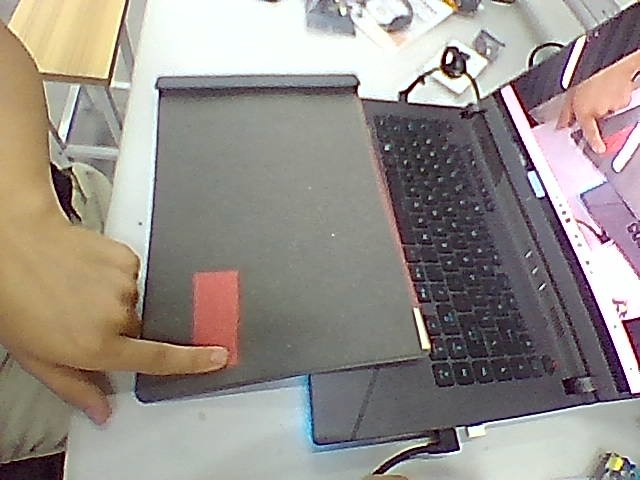card: (192, 270, 239, 365)
